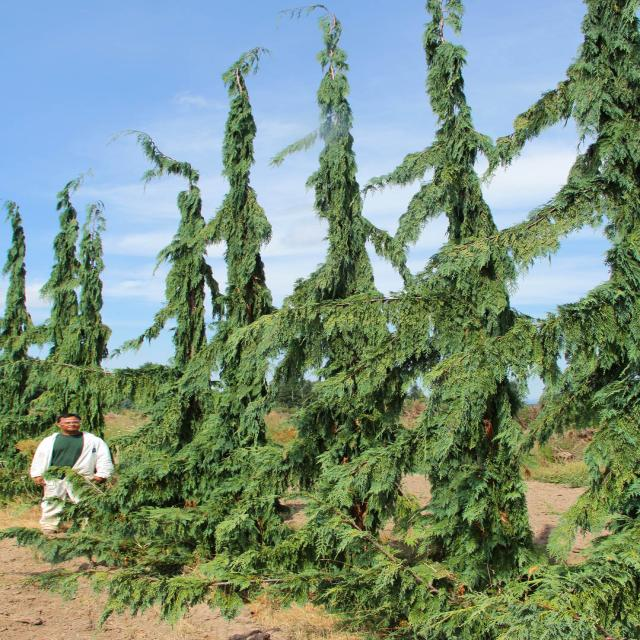Cupressus nootkatensis: (377, 7, 542, 633), (267, 30, 409, 597), (178, 51, 299, 596), (35, 153, 98, 420)
